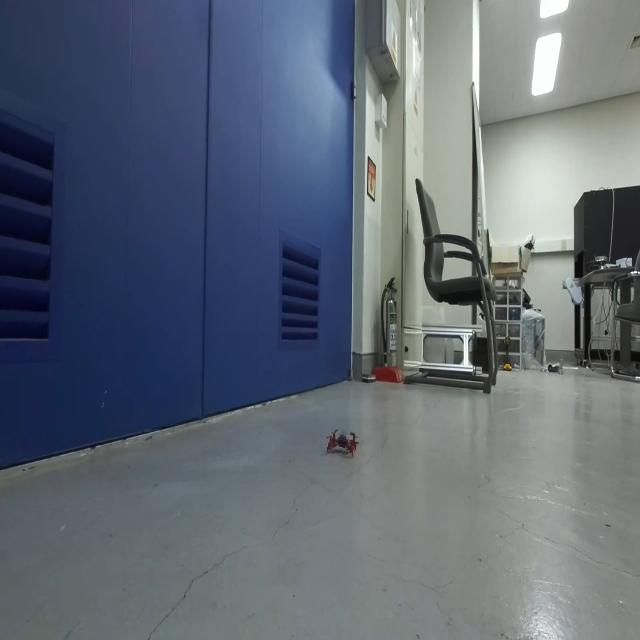crazyflie: (327, 424, 362, 462)
